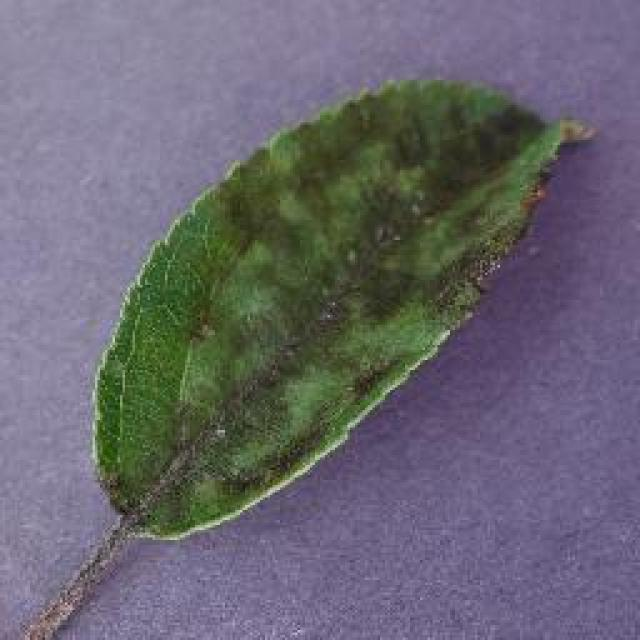apple scab disease: (87, 72, 595, 542)
